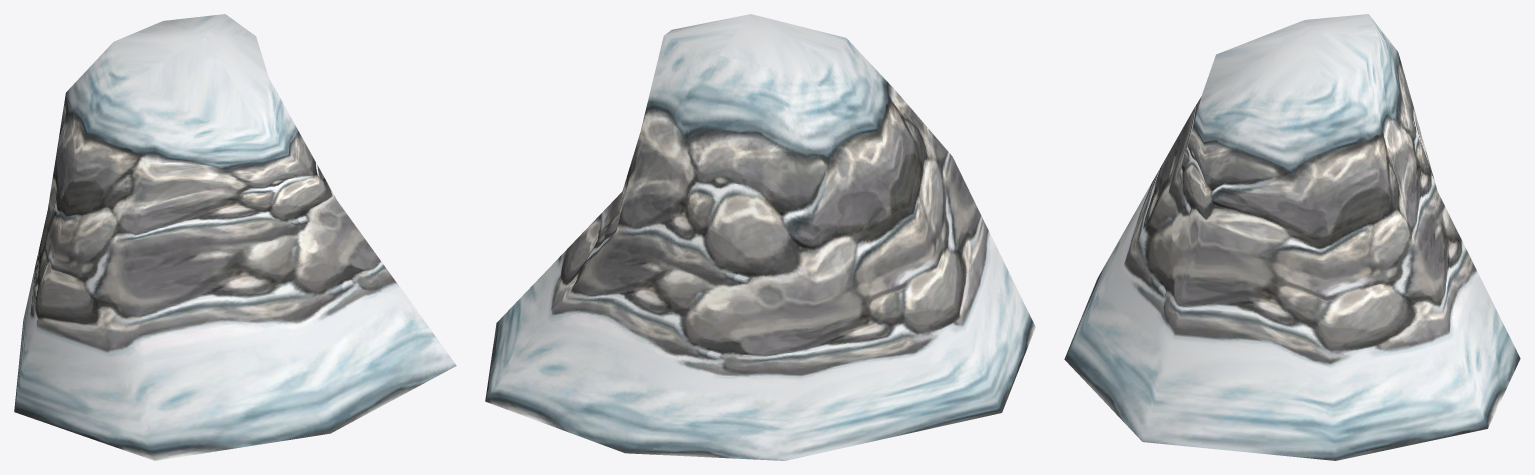
Rendered from winterspringrock06.obj.
3 views of the same model, side by side, from view 1: azimuth 30°, elevation 25°; view 2: azimuth 150°, elevation 25°; view 3: azimuth 270°, elevation 25° (orthographic). The views are drawn at different scales.
Visible parts, largest first — view 1: winterspringrock06; view 2: winterspringrock06; view 3: winterspringrock06.
Part boxes in pixels (box(x1,y1,x2,y2)): winterspringrock06: box(14, 14, 456, 460); winterspringrock06: box(485, 14, 1035, 460); winterspringrock06: box(1064, 14, 1520, 460).
Bounding box in the file's own units: 4.9 × 3.52 × 4.5.
Materials: 1 (1 with a texture image).
